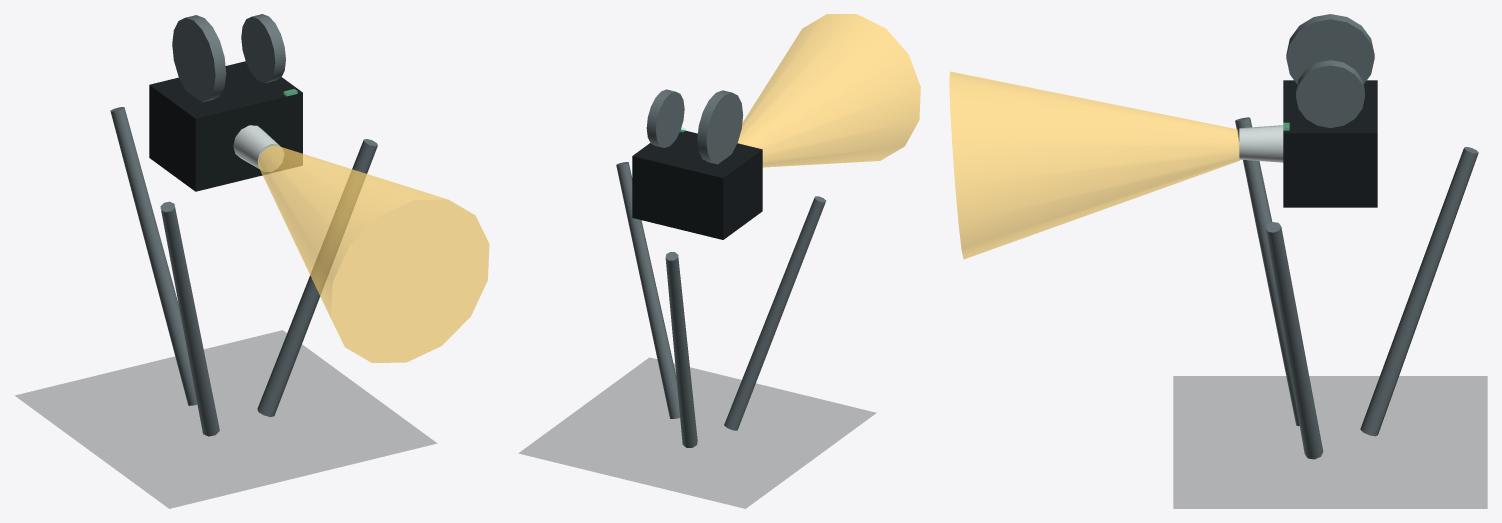
File: hp_room_rm_clinic_memory_projector.glb
3 views of the same model, side by side, from view 1: azimuth 30°, elevation 25°; view 2: azimuth 150°, elevation 25°; view 3: azimuth 270°, elevation 25° (orthographic). The views are drawn at different scales.
Parts seen in each view (by area): view 1: contact_shadow, memory_cone, projector_body, tripod_leg_0.4, tripod_leg_4.4, tripod_leg_2.5, reel_front, reel_back, lens_barrel; view 2: contact_shadow, memory_cone, projector_body, tripod_leg_0.4, tripod_leg_2.5, tripod_leg_4.4, reel_front, reel_back; view 3: contact_shadow, memory_cone, projector_body, tripod_leg_4.4, tripod_leg_0.4, reel_front, reel_back, tripod_leg_2.5, lens_barrel.
Boxes of the visible parts, box(x1,y1,x2,y2) form: contact_shadow: box(15, 330, 436, 508); memory_cone: box(258, 145, 489, 362); projector_body: box(149, 61, 302, 191); tripod_leg_0.4: box(257, 139, 377, 416); tripod_leg_4.4: box(110, 107, 197, 405); tripod_leg_2.5: box(160, 201, 219, 436); reel_front: box(172, 15, 226, 102); reel_back: box(241, 14, 285, 82); lens_barrel: box(233, 125, 283, 171); contact_shadow: box(519, 357, 875, 508); memory_cone: box(737, 14, 920, 167); projector_body: box(632, 129, 762, 239); tripod_leg_0.4: box(616, 162, 679, 418); tripod_leg_2.5: box(724, 196, 826, 430); tripod_leg_4.4: box(665, 252, 697, 447); reel_front: box(697, 90, 743, 164); reel_back: box(646, 89, 684, 147); contact_shadow: box(1173, 376, 1487, 508); memory_cone: box(949, 71, 1239, 259); projector_body: box(1283, 80, 1377, 207); tripod_leg_4.4: box(1360, 147, 1478, 436); tripod_leg_0.4: box(1265, 222, 1323, 459); reel_front: box(1286, 14, 1374, 84); reel_back: box(1296, 60, 1364, 127); tripod_leg_2.5: box(1235, 117, 1299, 426); lens_barrel: box(1239, 125, 1283, 162).
Size of the model in its own units: 1 by 1.45 by 1.71.
